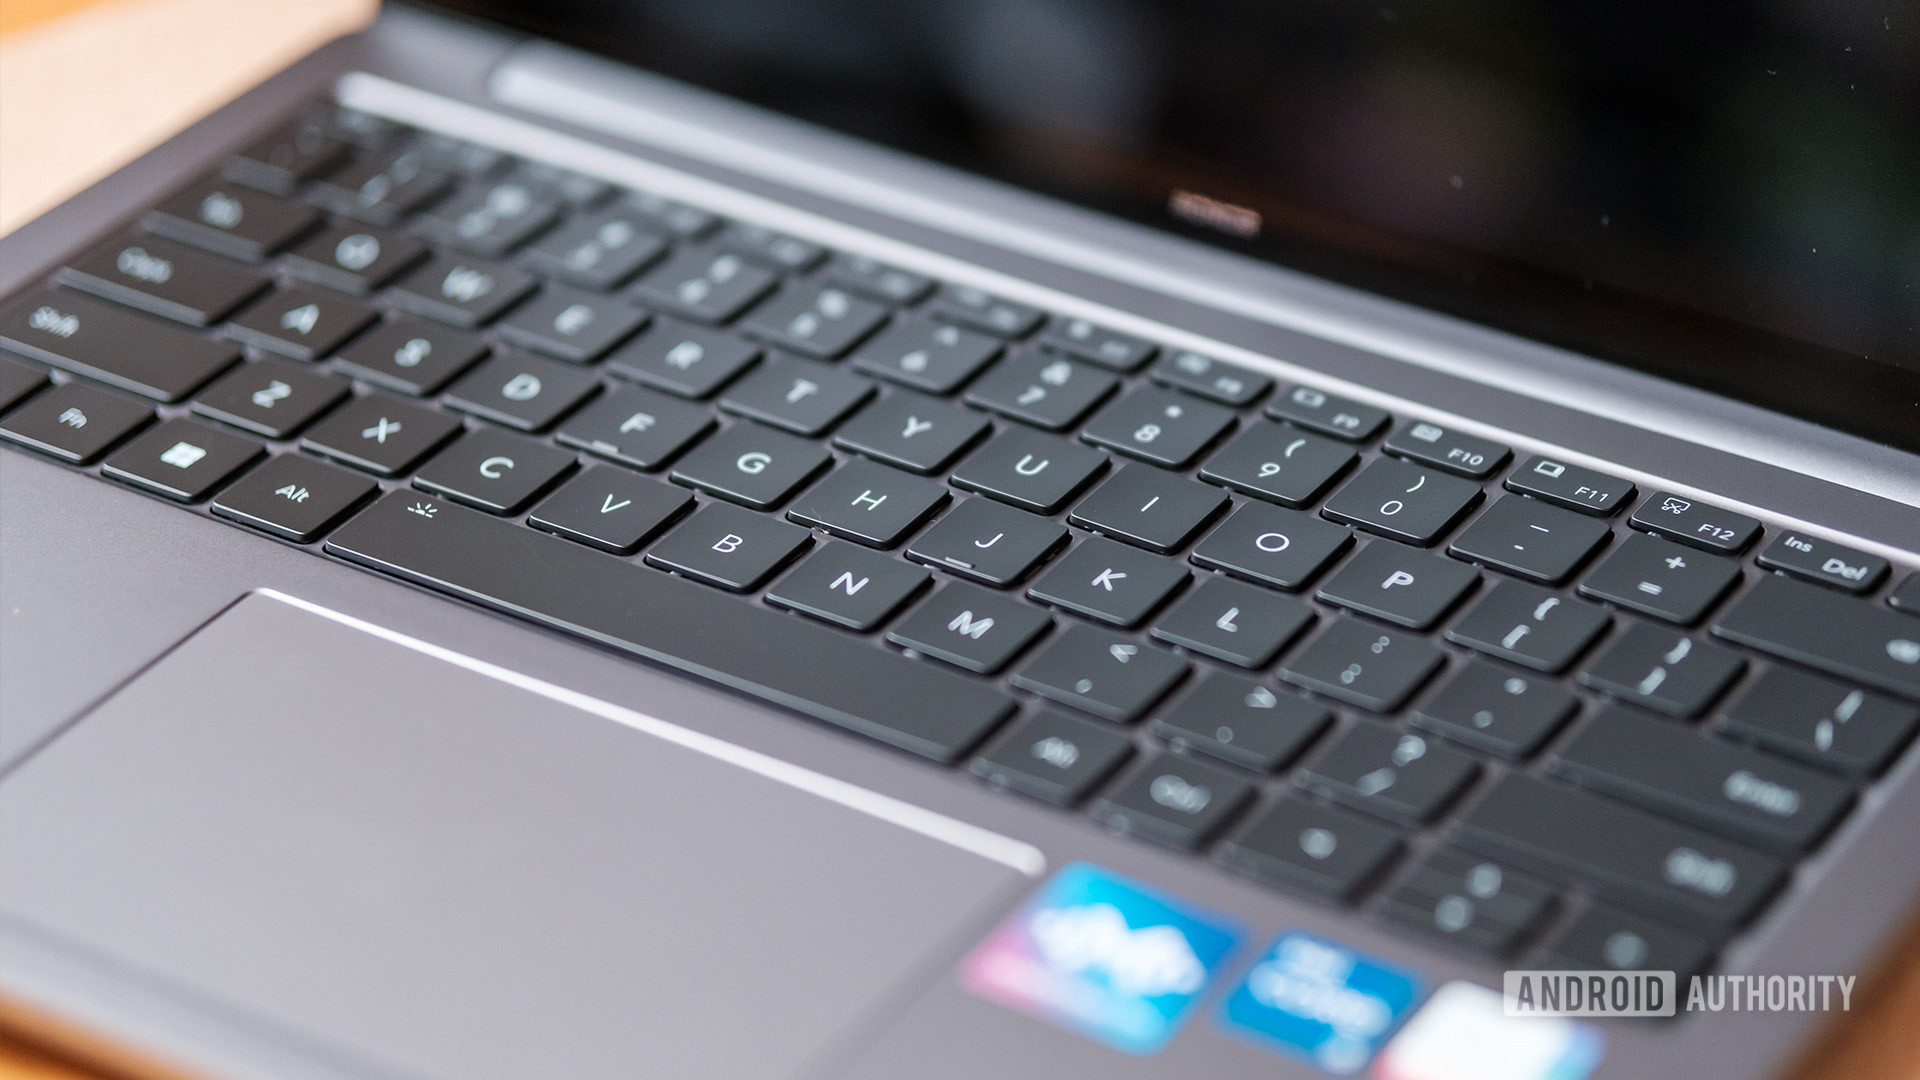keyboard: (16, 80, 1898, 949)
